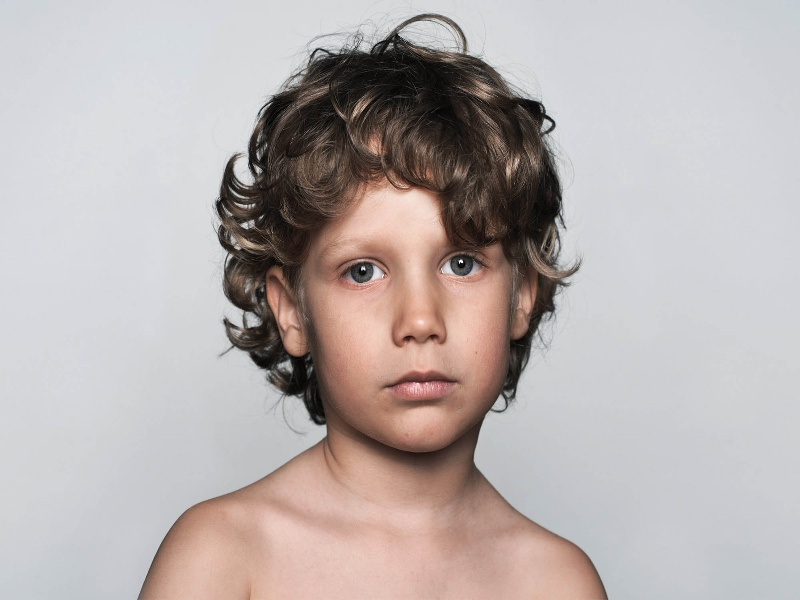face: (330, 237, 496, 411)
